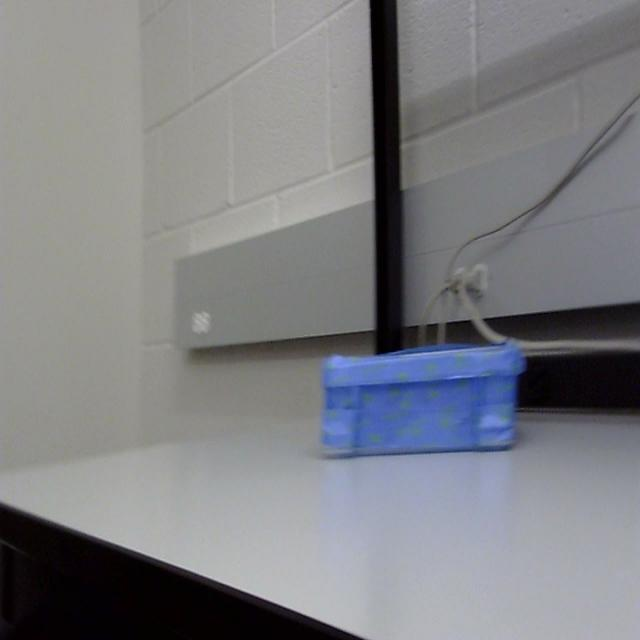bucket: (318, 321, 526, 464)
